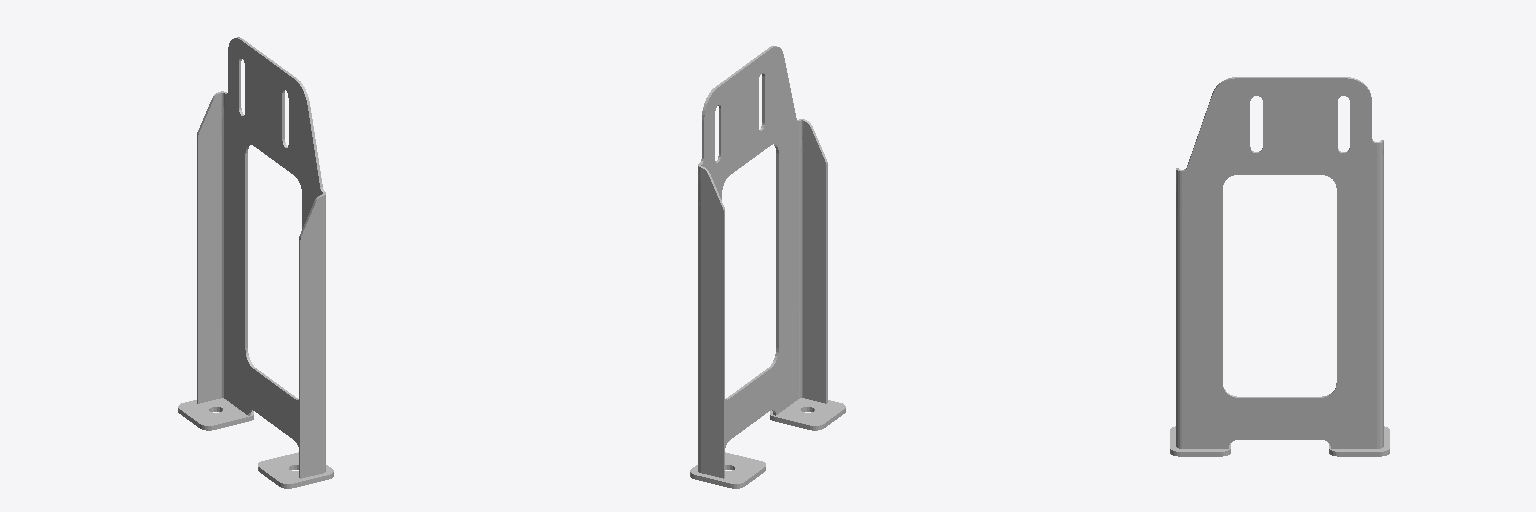
The model's file is wspornik_dlugi_lewy.obj.
3 renders of one model, left to right at view 1: azimuth 30°, elevation 25°; view 2: azimuth 150°, elevation 25°; view 3: azimuth 270°, elevation 25°, orthographic.
Visible parts, largest first — view 1: Bryła406; view 2: Bryła406; view 3: Bryła406.
Part boxes in pixels (x1,y1,x2,y2): Bryła406: (178,37,333,488); Bryła406: (690,46,845,488); Bryła406: (1170,77,1389,456).
Bounding box in the file's own units: 60 × 404 × 215.